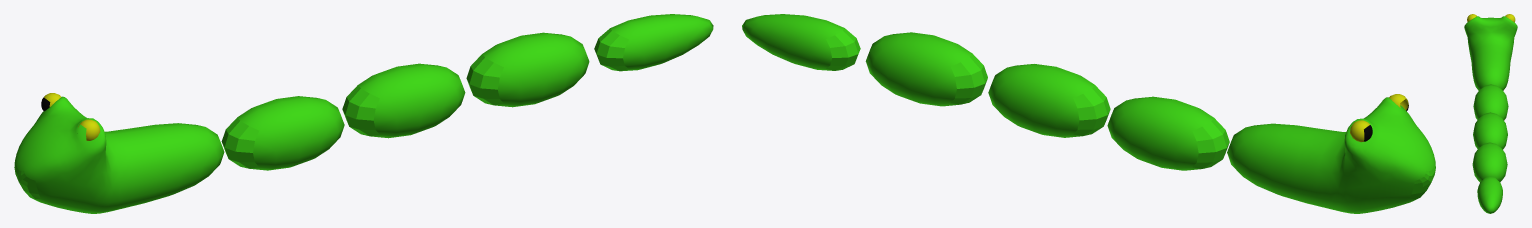
File: Snake.fbx
3 renders of one model, left to right at view 1: azimuth 30°, elevation 25°; view 2: azimuth 150°, elevation 25°; view 3: azimuth 270°, elevation 25°, orthographic. The views are drawn at different scales.
Parts seen in each view (by area): view 1: Head, Body1, Body3, Body2, Body4, Eyes; view 2: Head, Body1, Body2, Body3, Body4, Eyes; view 3: Head, Body3, Body2, Body1, Body4, Eyes.
Part boxes in pixels (bbox=[...]): Head: bbox=[14, 96, 224, 213]; Body1: bbox=[221, 96, 344, 170]; Body3: bbox=[466, 32, 589, 107]; Body2: bbox=[342, 63, 465, 138]; Body4: bbox=[594, 14, 713, 71]; Eyes: bbox=[41, 93, 100, 140]; Head: bbox=[1227, 97, 1435, 213]; Body1: bbox=[1107, 96, 1229, 170]; Body2: bbox=[988, 64, 1110, 137]; Body3: bbox=[865, 32, 987, 106]; Body4: bbox=[742, 14, 860, 70]; Eyes: bbox=[1350, 94, 1408, 142]; Head: bbox=[1464, 16, 1517, 90]; Body3: bbox=[1472, 142, 1507, 181]; Body2: bbox=[1473, 112, 1507, 149]; Body1: bbox=[1473, 84, 1508, 120]; Body4: bbox=[1477, 176, 1502, 213]; Eyes: bbox=[1467, 14, 1515, 22].
Size of the model in its own units: 516 by 77.29 by 67.84.
